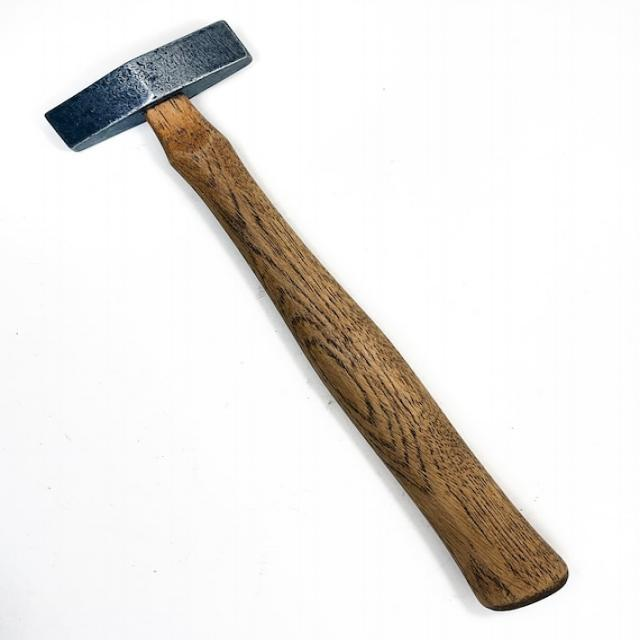hammer: (35, 12, 572, 620)
